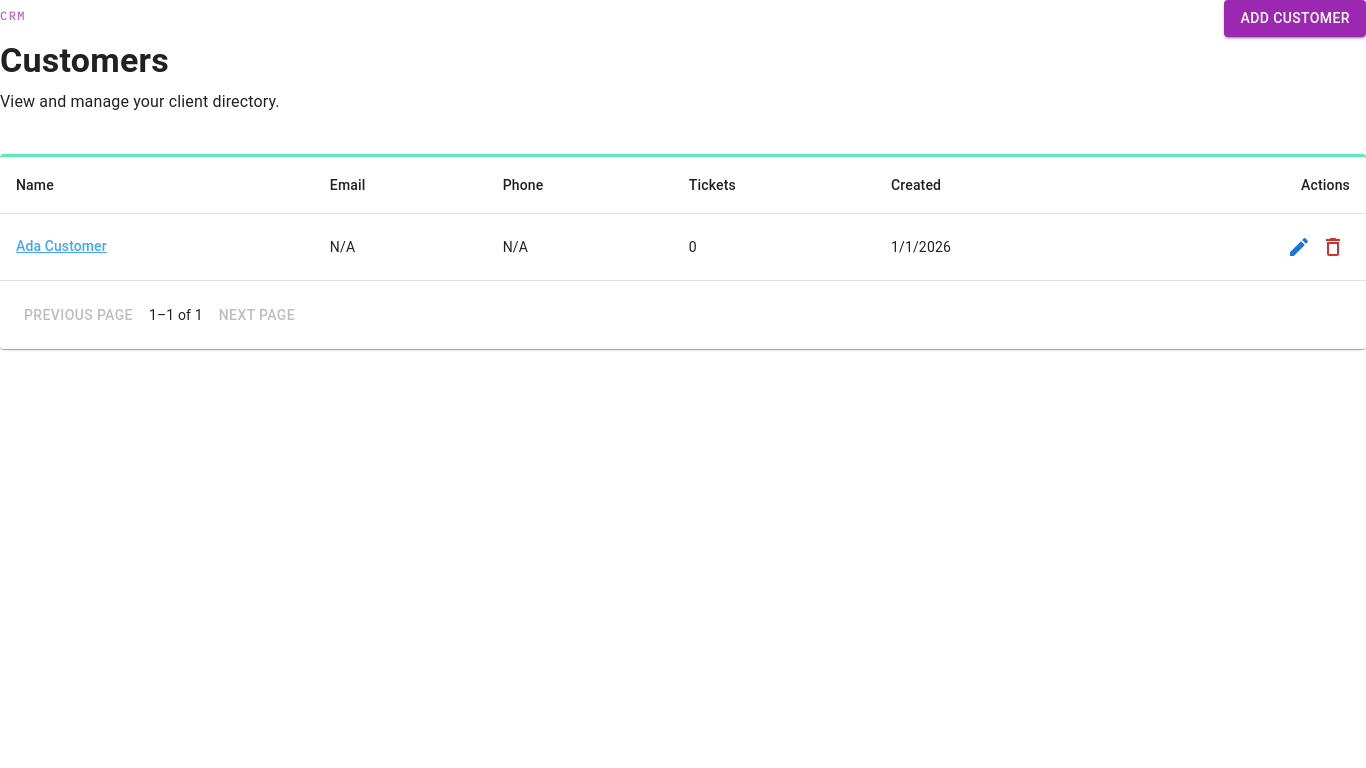
Test: offers admins an explicit named warning and safe cancellation from the list
Step 1. Click the button named "Delete customer Ada Customer" → (1333, 247), box [1316,230,1350,264]
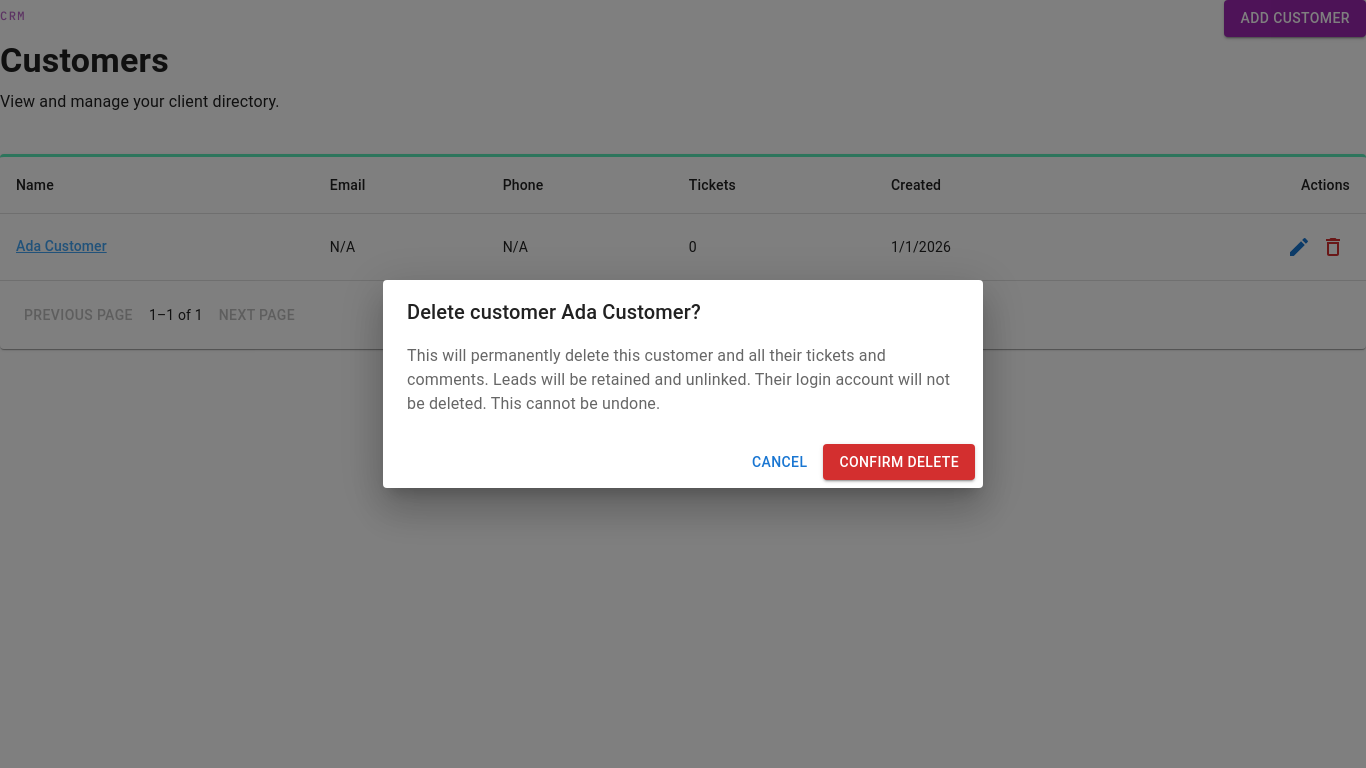
Now the dialog shows "Ada Customer", box [561,300,691,324]
Step 2. Click the button "Cancel" → (780, 462), box [744,444,815,480]
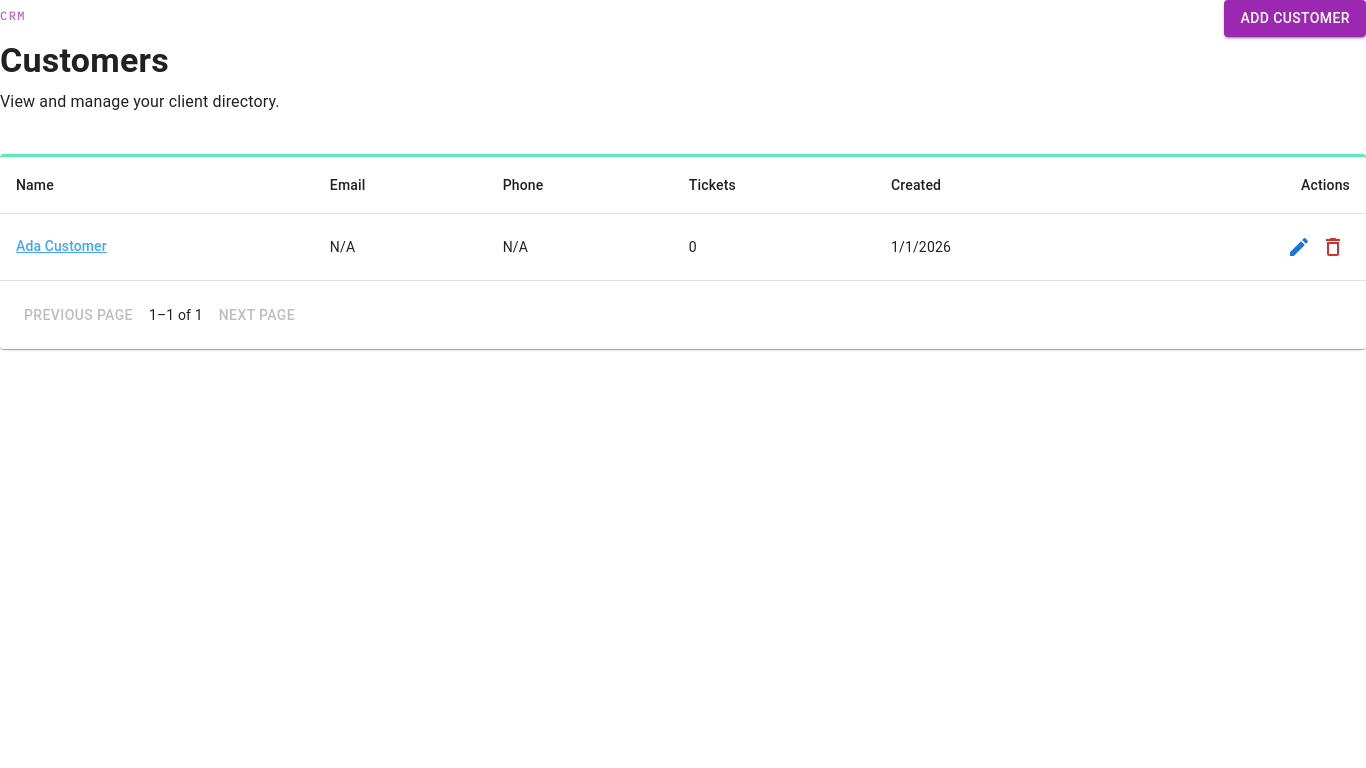
Now the dialog is gone
